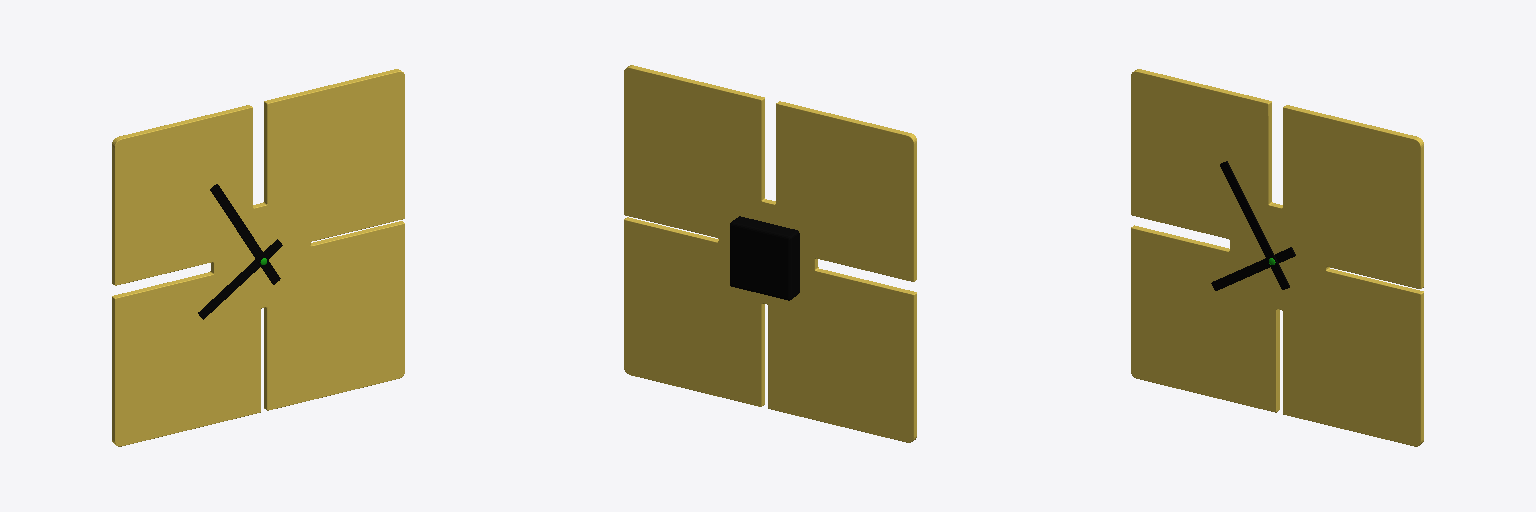
The model's file is clock.obj.
The picture shows the model from 3 angles: view 1: azimuth 30°, elevation 25°; view 2: azimuth 150°, elevation 25°; view 3: azimuth 330°, elevation 25°; orthographic projection.
Visible parts, largest first — view 1: Rectangle001, Rectangle003, Rectangle002; view 2: Rectangle001, ChamferBox001; view 3: Rectangle001, Rectangle003, Rectangle002.
Part boxes in pixels (x1,y1,x2,y2): Rectangle001: (112,69,404,446); Rectangle003: (210,184,280,284); Rectangle002: (198,239,282,319); Rectangle001: (624,65,916,442); ChamferBox001: (730,216,799,300); Rectangle001: (1131,69,1423,446); Rectangle003: (1220,161,1289,289); Rectangle002: (1211,247,1295,290).
Size of the model in its own units: 23.57 by 23.83 by 2.39.